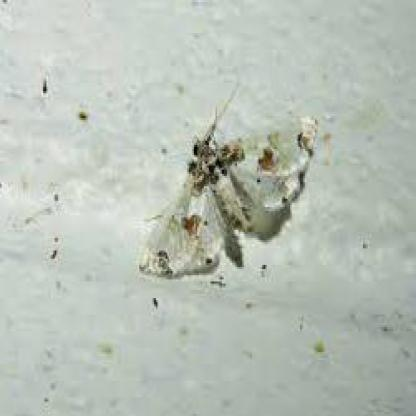leucinodes: (140, 119, 317, 279)
